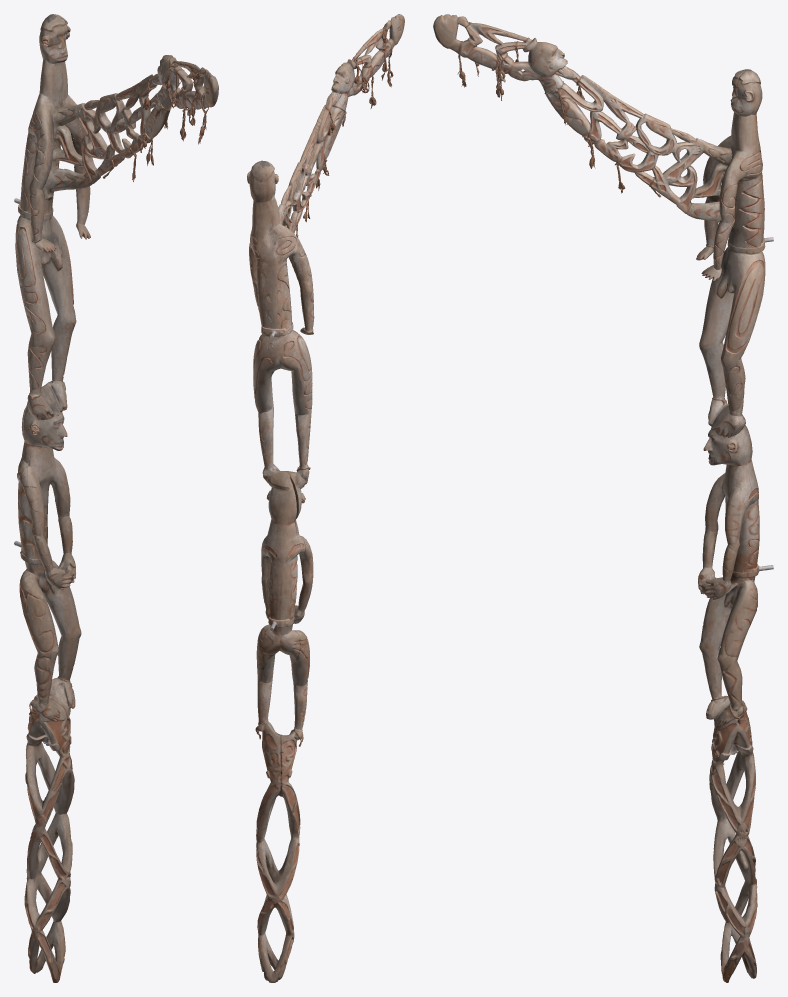
The model's file is preview.glb.
3 views of the same model, side by side, from view 1: azimuth 30°, elevation 25°; view 2: azimuth 150°, elevation 25°; view 3: azimuth 270°, elevation 25° (orthographic). The views are drawn at different scales.
Parts seen in each view (by area): view 1: ADVIMG_1978_412_1248_BisPole03_RC_Comps_10Mil_Retexture_Fix0; view 2: ADVIMG_1978_412_1248_BisPole03_RC_Comps_10Mil_Retexture_Fix0; view 3: ADVIMG_1978_412_1248_BisPole03_RC_Comps_10Mil_Retexture_Fix0.
Part boxes in pixels (left/top/right/bottom): ADVIMG_1978_412_1248_BisPole03_RC_Comps_10Mil_Retexture_Fix0: left=14, top=14, right=218, bottom=982; ADVIMG_1978_412_1248_BisPole03_RC_Comps_10Mil_Retexture_Fix0: left=247, top=14, right=404, bottom=982; ADVIMG_1978_412_1248_BisPole03_RC_Comps_10Mil_Retexture_Fix0: left=433, top=14, right=773, bottom=982.
Size of the model in its own units: 0.3754 by 5.24 by 1.67.
1 material, 1 textured.
